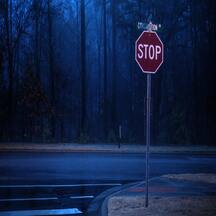Circle: (134, 29, 163, 72)
